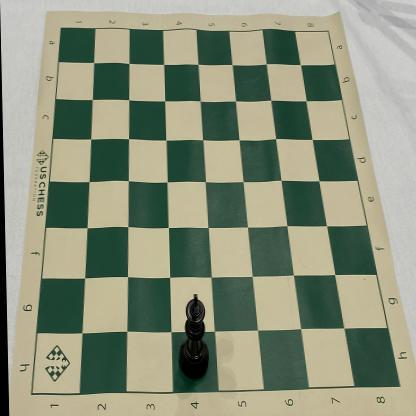black-king: (176, 293, 208, 381)
